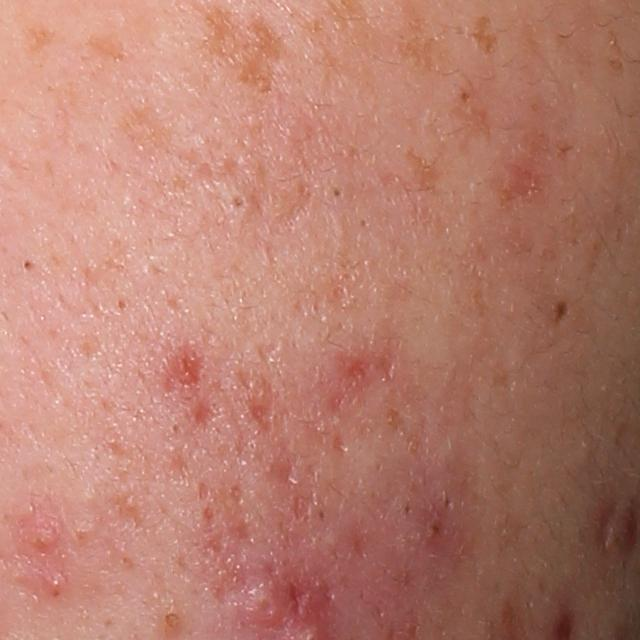atrophic_scar: (227, 363, 277, 437), (216, 483, 256, 546), (266, 439, 297, 499), (190, 384, 222, 431), (593, 501, 619, 557), (282, 570, 312, 614), (291, 492, 323, 525), (199, 528, 225, 554), (329, 431, 350, 455), (201, 505, 219, 532), (196, 479, 208, 502)
comedo: (158, 600, 192, 633), (70, 521, 98, 548), (228, 184, 249, 212), (328, 181, 349, 204), (18, 257, 37, 276), (112, 295, 132, 313), (167, 420, 185, 439)
melasma: (203, 4, 287, 98), (112, 98, 183, 154), (80, 29, 128, 67), (20, 21, 58, 59), (471, 14, 501, 60)
nevus: (551, 296, 571, 329)
papule: (222, 580, 284, 624), (13, 513, 65, 559), (40, 569, 68, 598)
